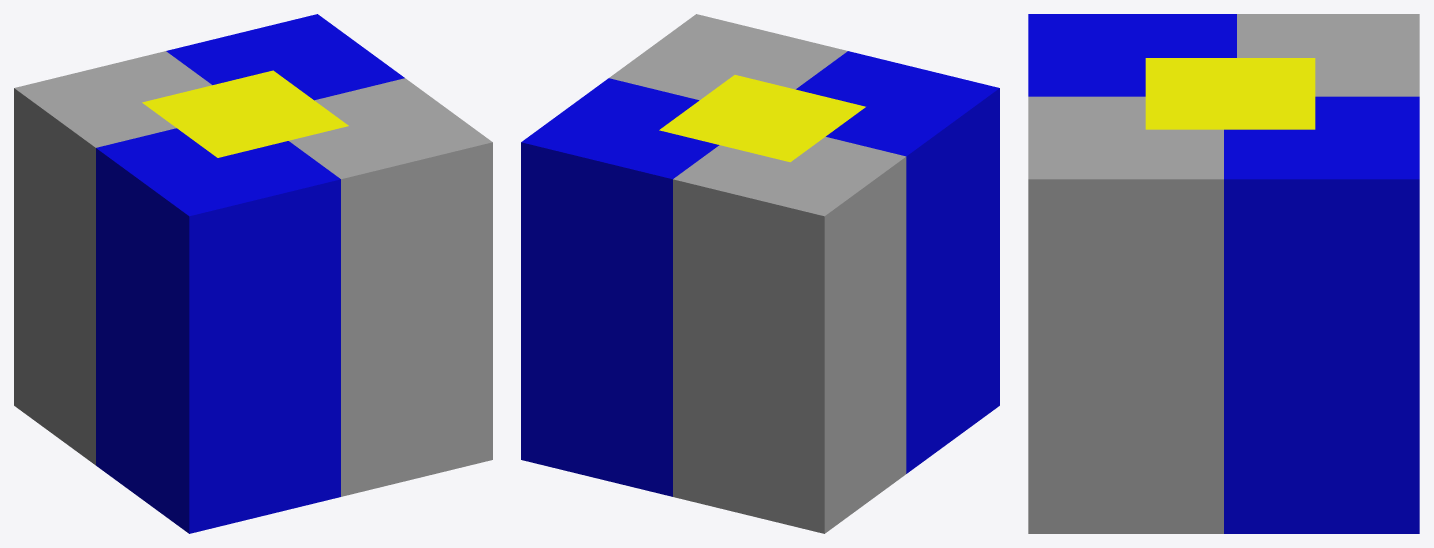
The model's file is Cover.fbx.
3 renders of one model, left to right at view 1: azimuth 30°, elevation 25°; view 2: azimuth 150°, elevation 25°; view 3: azimuth 270°, elevation 25°, orthographic. The views are drawn at different scales.
Parts seen in each view (by area): view 1: Cover:Mesh; view 2: Cover:Mesh; view 3: Cover:Mesh.
Part boxes in pixels (<box>): Cover:Mesh: <box>14,14,492,533</box>; Cover:Mesh: <box>521,14,999,533</box>; Cover:Mesh: <box>1028,14,1419,533</box>.
Size of the model in its own units: 3 by 3 by 3.
1 material, 1 textured.
